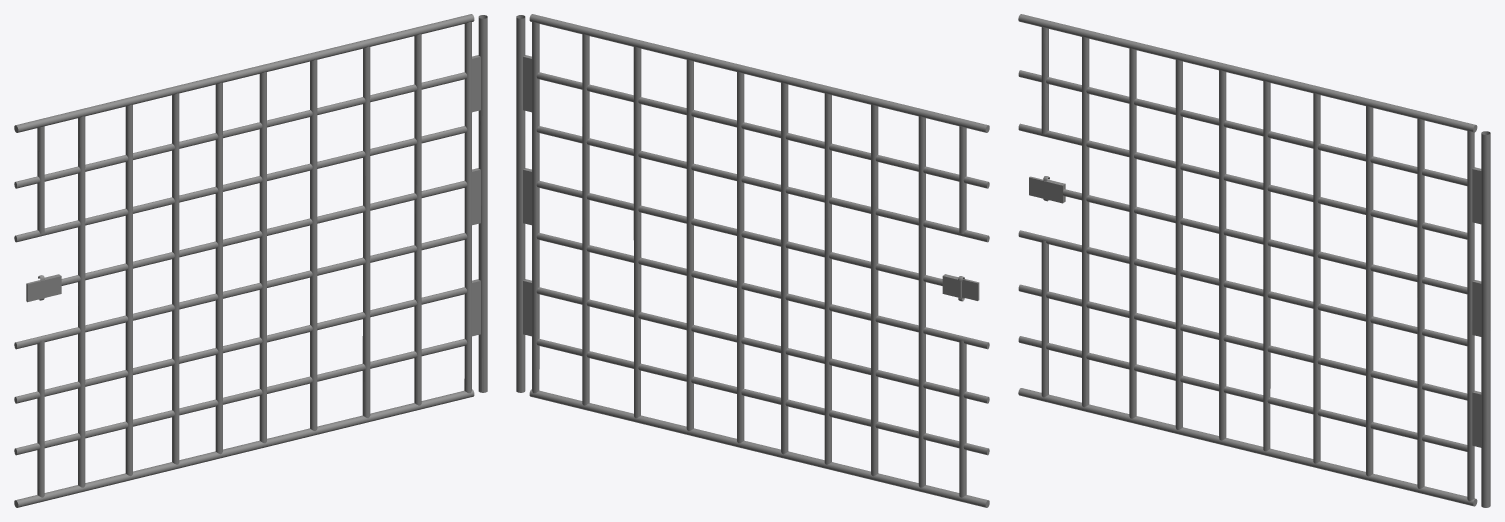
Rendered from ReshetkaMain.fbx.
3 views of the same model, side by side, from view 1: azimuth 30°, elevation 25°; view 2: azimuth 150°, elevation 25°; view 3: azimuth 330°, elevation 25° (orthographic).
Parts seen in each view (by area): view 1: Cube.024; view 2: Cube.024; view 3: Cube.024.
Part boxes in pixels (box(x1,y1,x2,y2)): Cube.024: box(14, 14, 487, 507); Cube.024: box(516, 14, 989, 507); Cube.024: box(1018, 14, 1490, 507).
Bounding box in the file's own units: 554 × 429 × 9.17.
